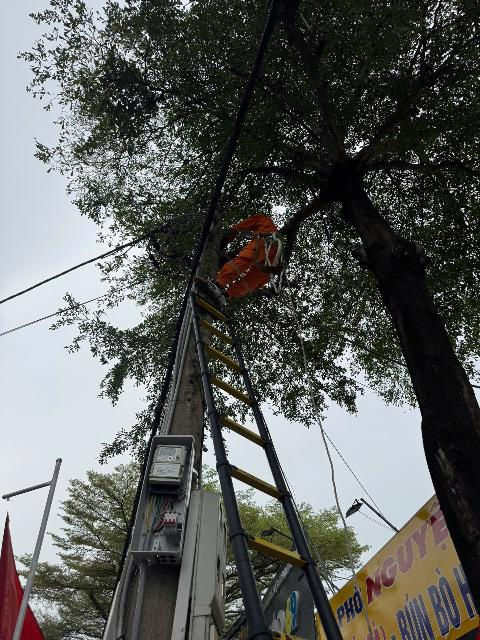gloves: (208, 236, 233, 250)
harness: (245, 228, 290, 247)
shoes: (188, 271, 222, 299), (204, 288, 228, 308)
